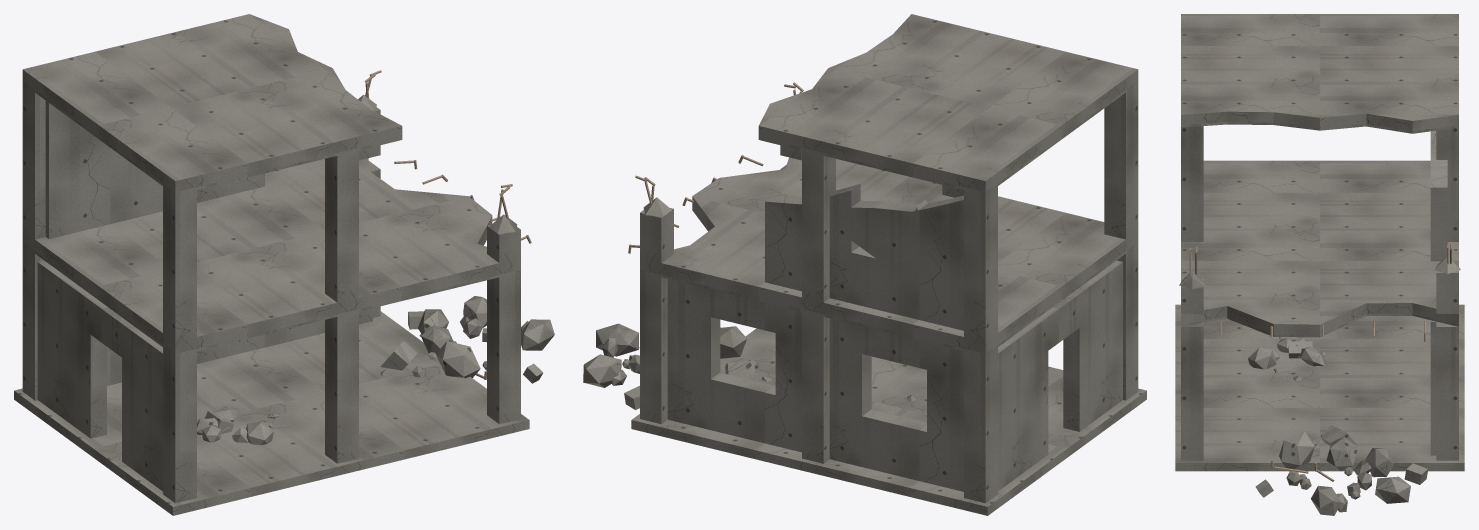
The model's file is Building_Frame_2F.fbx.
3 views of the same model, side by side, from view 1: azimuth 30°, elevation 25°; view 2: azimuth 150°, elevation 25°; view 3: azimuth 270°, elevation 25° (orthographic). The views are drawn at different scales.
Visible parts, largest first — view 1: Building_Frame_2F; view 2: Building_Frame_2F; view 3: Building_Frame_2F.
Part boxes in pixels (left/top/right/bottom): Building_Frame_2F: left=14, top=14, right=554, bottom=515; Building_Frame_2F: left=583, top=14, right=1146, bottom=515; Building_Frame_2F: left=1175, top=14, right=1464, bottom=515.
Bounding box in the file's own units: 8.59 × 5.91 × 5.1.
Materials: 2 (1 with a texture image).
